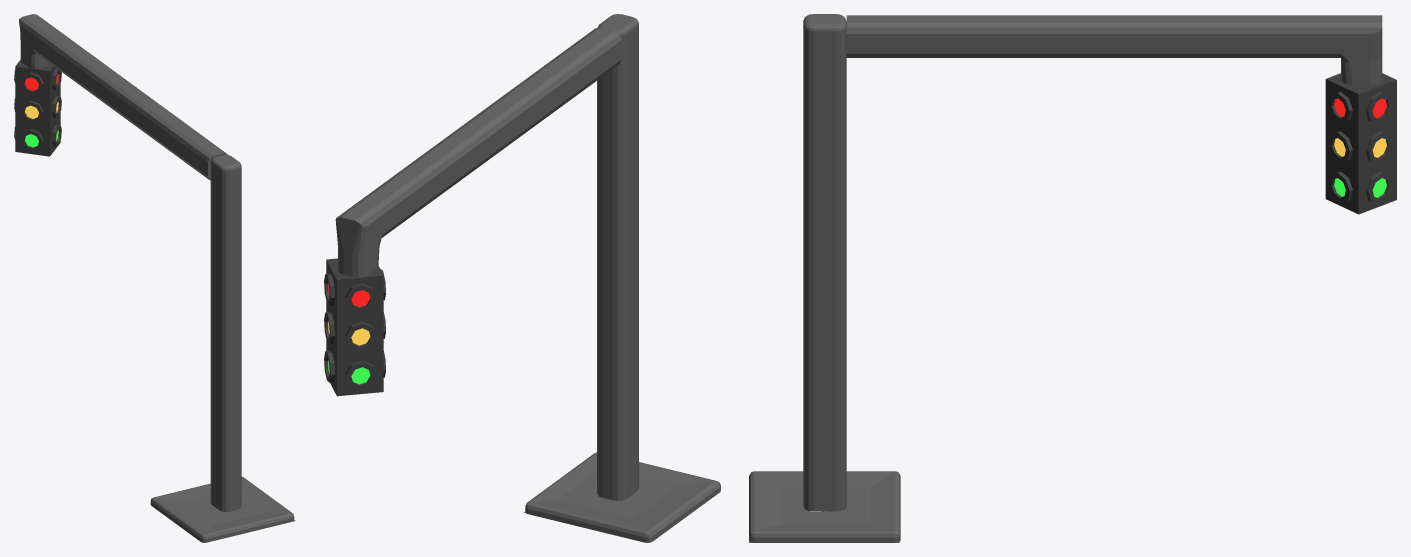
The model's file is semaphore.glb.
3 renders of one model, left to right at view 1: azimuth 30°, elevation 25°; view 2: azimuth 150°, elevation 25°; view 3: azimuth 270°, elevation 25°, orthographic. The views are drawn at different scales.
Parts seen in each view (by area): view 1: semaphore-rod, red-box, green-box, orange-box; view 2: semaphore-rod, red-box, orange-box, green-box; view 3: semaphore-rod, red-box, green-box, orange-box.
Boxes of the visible parts, <box> form: semaphore-rod: <box>19,14,295,542</box>; red-box: <box>14,60,61,99</box>; green-box: <box>14,114,61,156</box>; orange-box: <box>14,86,61,127</box>; semaphore-rod: <box>335,14,720,542</box>; red-box: <box>324,258,385,318</box>; orange-box: <box>324,301,385,357</box>; green-box: <box>324,340,385,396</box>; semaphore-rod: <box>749,14,1382,542</box>; red-box: <box>1325,73,1396,134</box>; green-box: <box>1325,159,1396,214</box>; orange-box: <box>1325,119,1396,174</box>.
Size of the model in its own units: 8.3 by 30.01 by 35.62.
